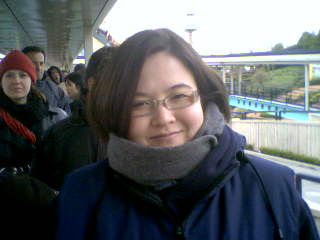person: (54, 29, 320, 240), (1, 51, 70, 240)
